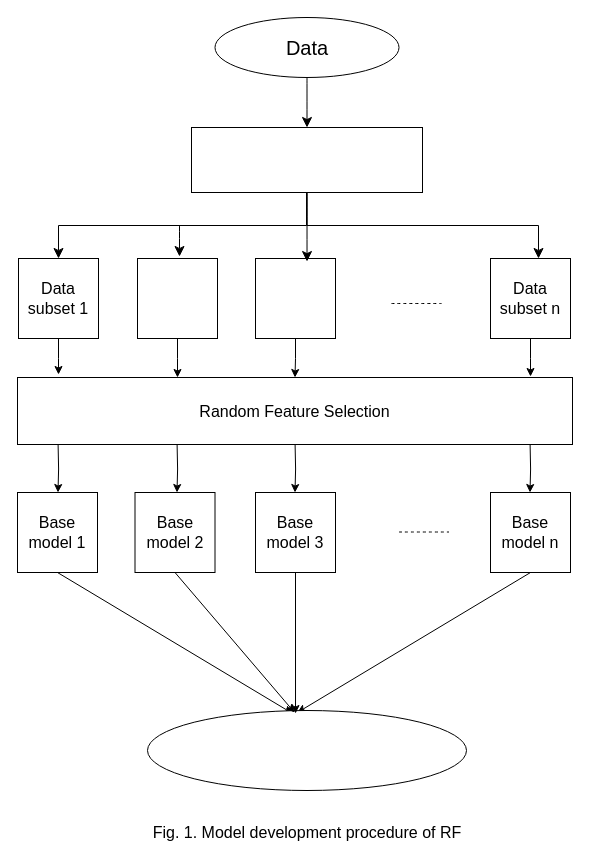
Image size: 590x865. Some labels were removed from this diagram. The centre of each missing label's shape, as x and y in pixels:
Combination Model: [306,750]
Data subset 2: [177,298]
Data subset 3: [295,298]
Randomly Sampling with Replacement: [306,159]
